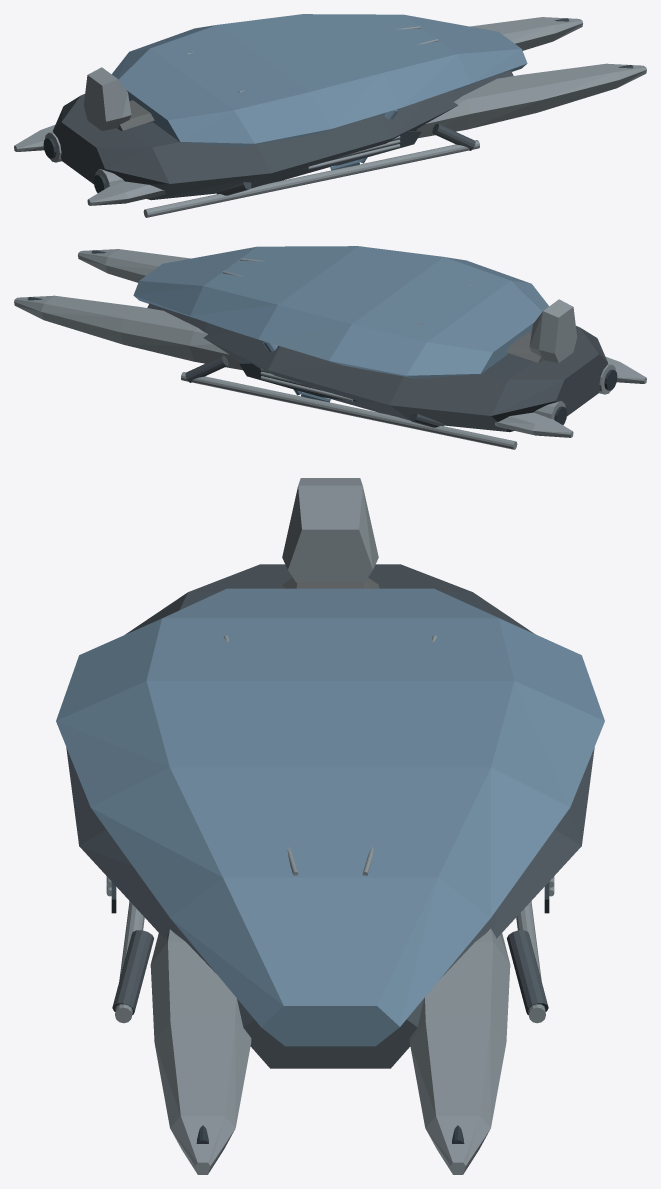
Rendered from solos_blue_off.glb.
3 views of the same model, one above another, from view 1: azimuth 30°, elevation 25°; view 2: azimuth 150°, elevation 25°; view 3: azimuth 270°, elevation 25° (orthographic). The views are drawn at different scales.
Parts seen in each view (by area): view 1: upper_fairing_1, chassis_0, forward_prongs_2, lower_ski_4, seat_back_10, aft_fins_16, ski_support_5, side_vent_13, vent_louvers_14, seat_cushion_9, aft_engine_6, aft_aperture_7; view 2: upper_fairing_1, chassis_0, forward_prongs_2, lower_ski_4, seat_back_10, aft_fins_16, ski_support_5, side_vent_13, seat_cushion_9, vent_louvers_14, aft_engine_6, aft_aperture_7; view 3: upper_fairing_1, forward_prongs_2, chassis_0, seat_back_10, ski_support_5, lower_ski_4.
Boxes of the visible parts, <box> form: upper_fairing_1: <box>111,14,527,146</box>; chassis_0: <box>53,70,513,200</box>; forward_prongs_2: <box>416,17,646,138</box>; lower_ski_4: <box>143,140,479,217</box>; seat_back_10: <box>83,67,131,130</box>; aft_fins_16: <box>14,125,165,205</box>; ski_support_5: <box>216,123,475,195</box>; side_vent_13: <box>301,131,421,169</box>; vent_louvers_14: <box>308,136,400,169</box>; seat_cushion_9: <box>117,100,154,130</box>; aft_engine_6: <box>45,131,124,187</box>; aft_aperture_7: <box>43,137,106,192</box>; upper_fairing_1: <box>133,246,549,378</box>; chassis_0: <box>147,303,607,432</box>; forward_prongs_2: <box>14,249,242,370</box>; lower_ski_4: <box>181,372,517,449</box>; seat_back_10: <box>529,299,577,362</box>; aft_fins_16: <box>495,357,646,437</box>; ski_support_5: <box>185,355,444,427</box>; side_vent_13: <box>239,363,357,401</box>; seat_cushion_9: <box>506,332,543,362</box>; vent_louvers_14: <box>260,368,352,401</box>; aft_engine_6: <box>533,363,615,419</box>; aft_aperture_7: <box>554,369,617,424</box>; upper_fairing_1: <box>56,588,604,1046</box>; forward_prongs_2: <box>150,928,510,1174</box>; chassis_0: <box>66,564,594,1068</box>; seat_back_10: <box>282,478,378,582</box>; ski_support_5: <box>112,930,548,1014</box>; lower_ski_4: <box>115,901,545,1023</box>.
Size of the model in its own units: 6.7 by 1.31 by 2.84.
